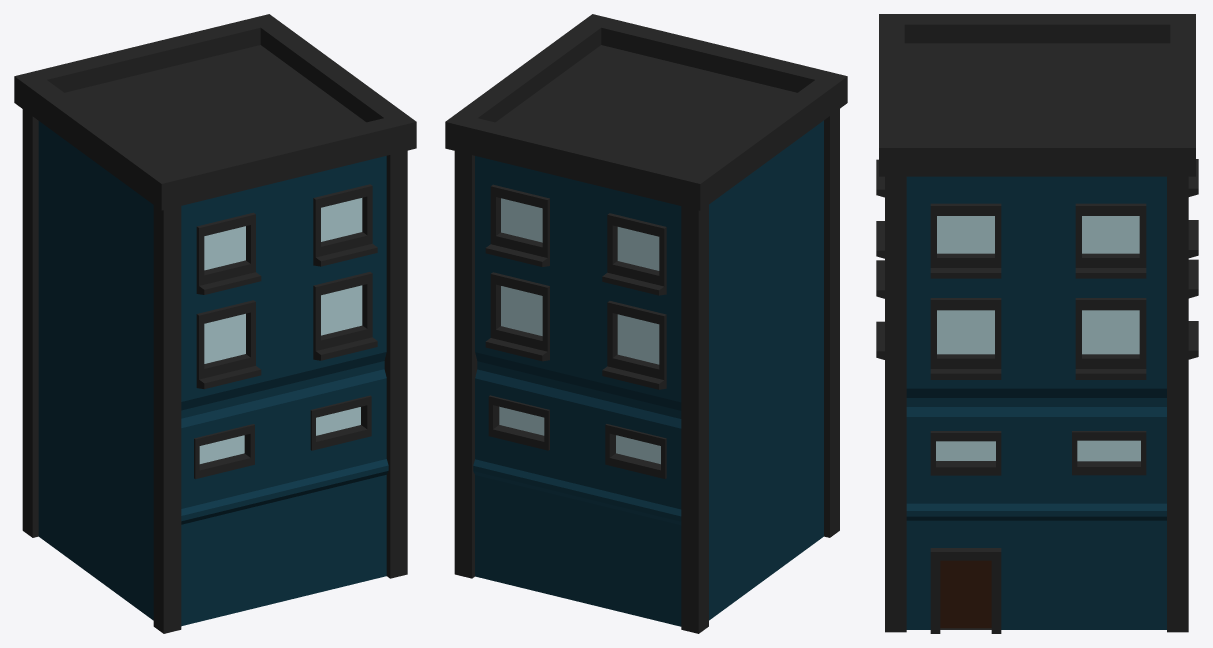
The model's file is house_tall_U.fbx.
3 renders of one model, left to right at view 1: azimuth 30°, elevation 25°; view 2: azimuth 150°, elevation 25°; view 3: azimuth 270°, elevation 25°, orthographic. The views are drawn at different scales.
Parts seen in each view (by area): view 1: Base.117; view 2: Base.117; view 3: Base.117.
Part boxes in pixels (x1=…): Base.117: x1=14, y1=14, x2=416, y2=633; Base.117: x1=445, y1=14, x2=847, y2=633; Base.117: x1=876, y1=14, x2=1198, y2=633.
Size of the model in its own units: 882 by 1485 by 889.
